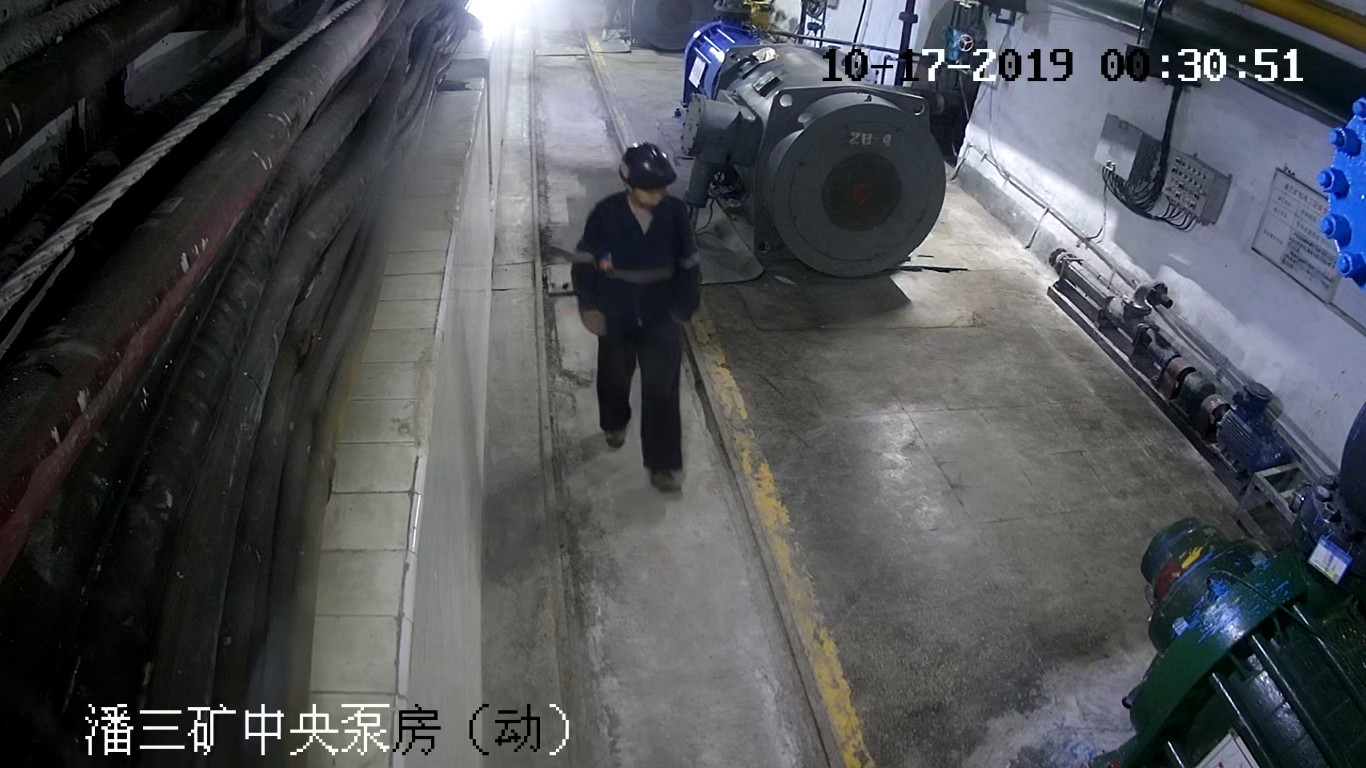helmet: (618, 141, 676, 189)
